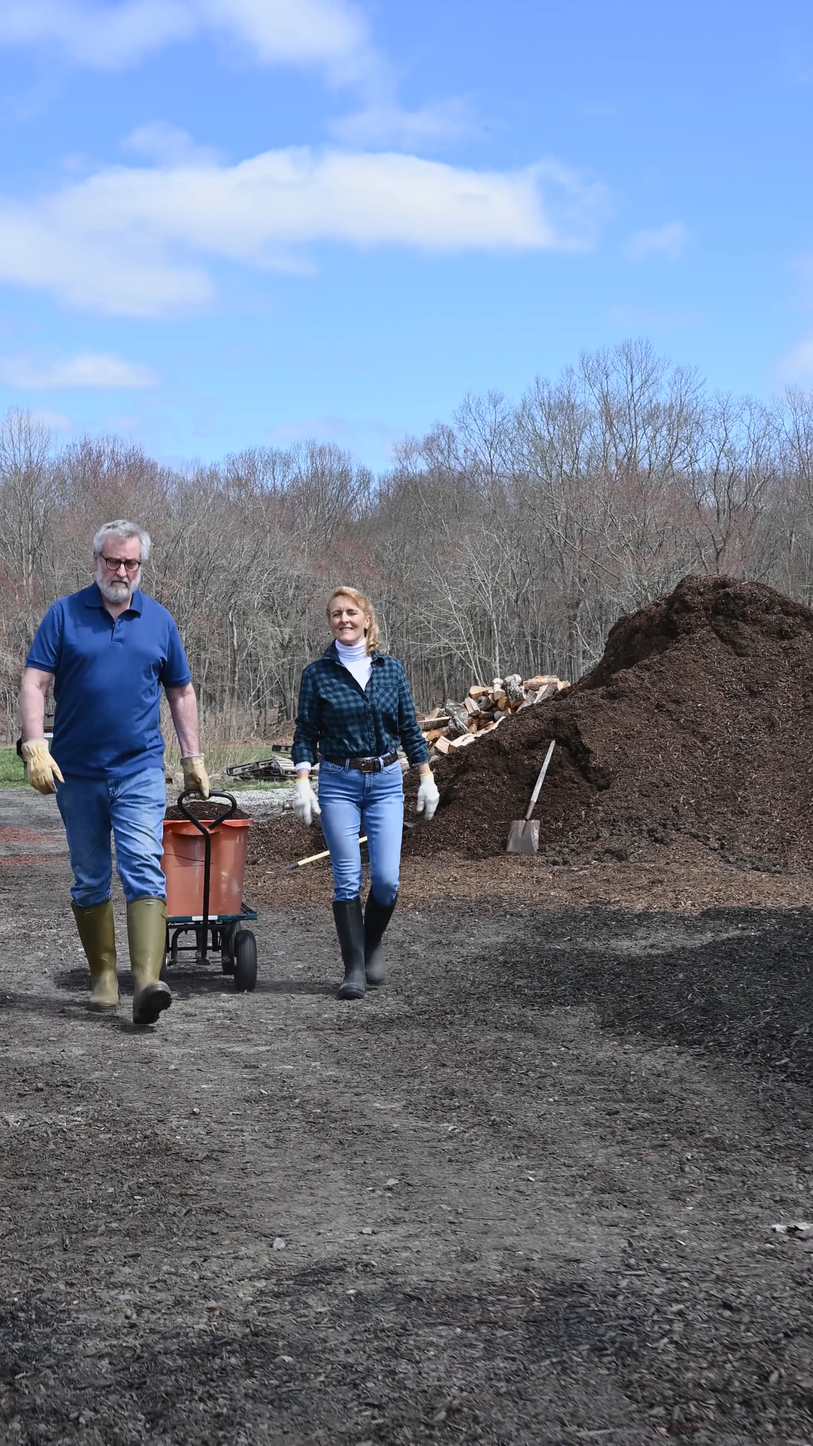gloves: (8, 731, 75, 802), (171, 750, 233, 800), (406, 767, 452, 825), (284, 774, 329, 827)
